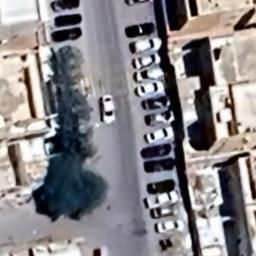SUV: (128, 40, 164, 56)
pickup: (146, 190, 181, 208)
sedan: (96, 94, 120, 125), (142, 126, 175, 144), (156, 219, 186, 235), (132, 54, 163, 69), (134, 82, 166, 96), (152, 204, 180, 220)
unknown: (50, 28, 86, 44), (124, 22, 160, 37), (142, 177, 176, 192), (132, 69, 164, 82), (142, 161, 176, 173), (139, 146, 172, 158), (50, 0, 85, 11), (51, 16, 88, 26)
